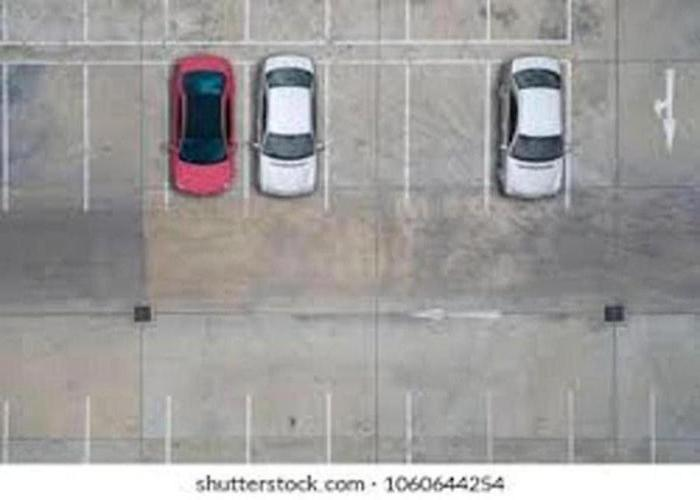empty: (404, 62, 490, 204), (5, 61, 87, 203), (84, 62, 167, 202), (327, 61, 407, 199), (334, 368, 414, 443), (490, 389, 569, 462), (408, 392, 490, 461), (247, 393, 328, 461), (169, 397, 248, 464), (87, 392, 167, 458), (5, 399, 88, 461)
occupied: (248, 54, 328, 206), (494, 53, 570, 205), (171, 51, 242, 201)
